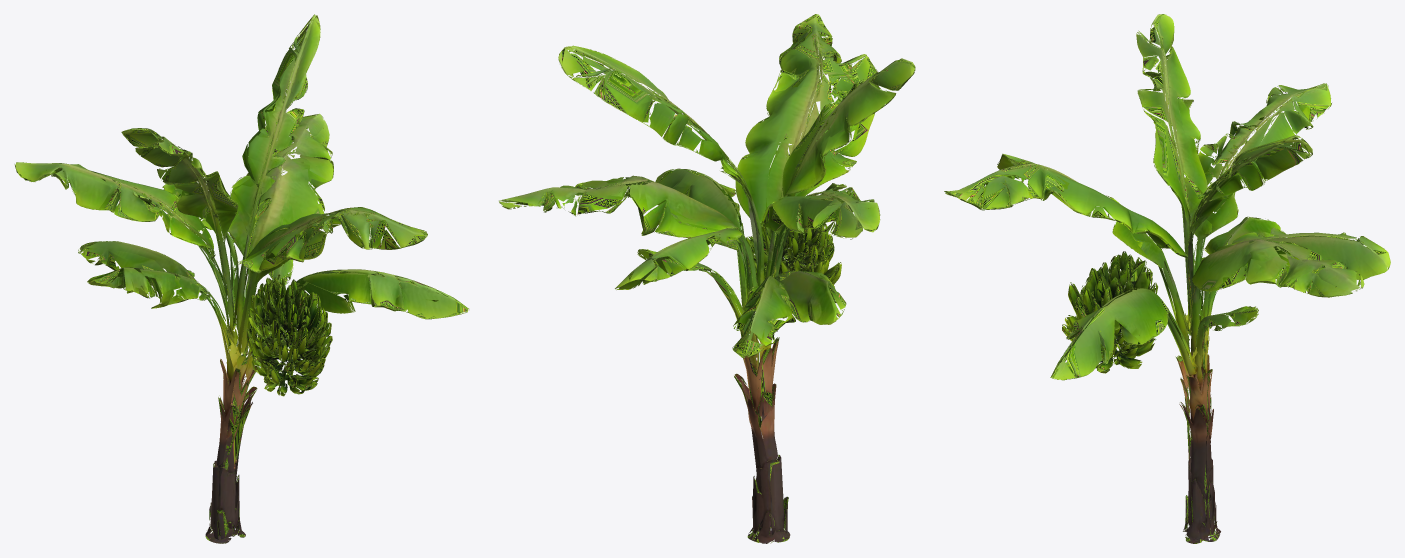
The model's file is scene_small.gltf.
The picture shows the model from 3 angles, left to right: view 1: azimuth 30°, elevation 25°; view 2: azimuth 150°, elevation 25°; view 3: azimuth 270°, elevation 25°; orthographic projection. The views are drawn at different scales.
Bounding box in the file's own units: 1.5 × 2 × 1.73.
1 material, 1 textured.
